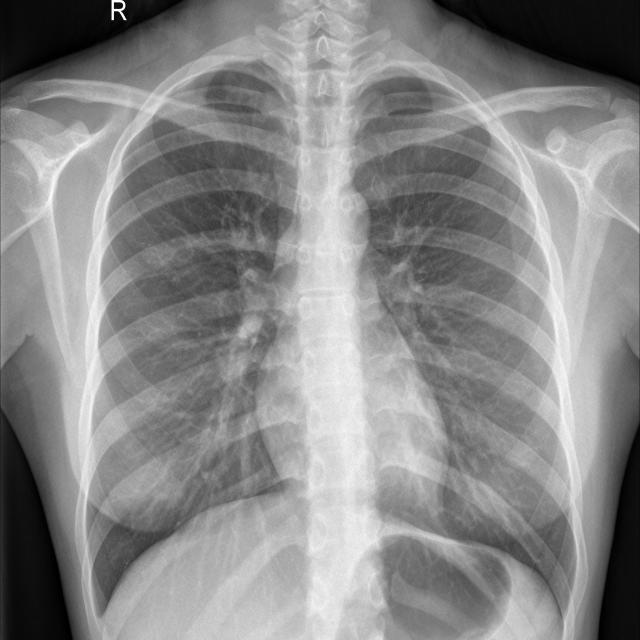no-pneumonia: (354, 77, 577, 607), (89, 62, 298, 604)
